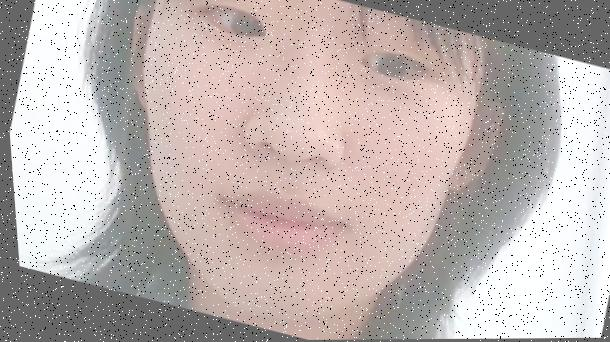eye: (230, 11, 266, 43), (374, 53, 407, 82)
iris: (357, 45, 430, 90), (199, 0, 272, 43)
